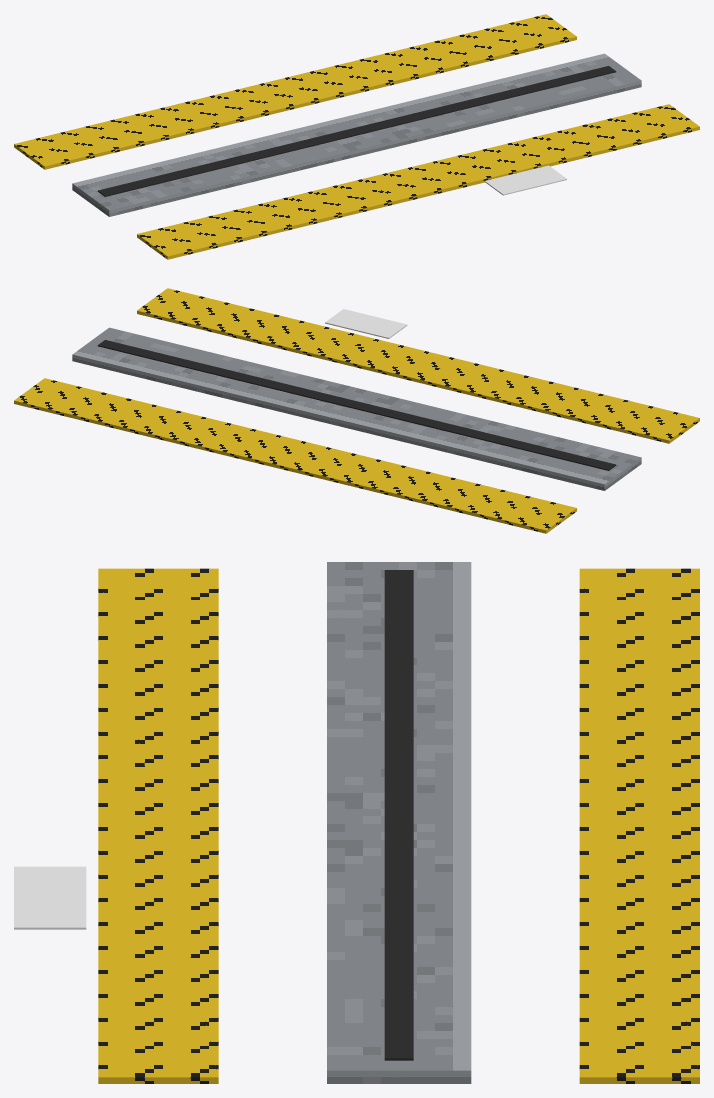
Rendered from tr_lab_security_corridor_a.glb.
3 views of the same model, one above another, from view 1: azimuth 30°, elevation 25°; view 2: azimuth 150°, elevation 25°; view 3: azimuth 270°, elevation 25° (orthographic). The views are drawn at different scales.
Parts seen in each view (by area): view 1: block_hazard stripe (×2), block_door track, block_groove, block_label; view 2: block_hazard stripe (×2), block_door track, block_groove, block_label; view 3: block_hazard stripe (×2), block_door track, block_groove, block_label.
Part boxes in pixels (left/top/right/bottom): block_hazard stripe (×2): left=14, top=14, right=699, bottom=259; block_door track: left=72, top=53, right=641, bottom=216; block_groove: left=97, top=66, right=616, bottom=196; block_label: left=484, top=165, right=566, bottom=195; block_hazard stripe (×2): left=14, top=288, right=699, bottom=533; block_door track: left=72, top=327, right=641, bottom=490; block_groove: left=97, top=340, right=616, bottom=470; block_label: left=325, top=309, right=407, bottom=338; block_hazard stripe (×2): left=98, top=568, right=699, bottom=1083; block_door track: left=327, top=562, right=471, bottom=1083; block_groove: left=384, top=570, right=413, bottom=1060; block_label: left=14, top=866, right=86, bottom=929.
Bounding box in the file's own units: 1 × 0.014 × 0.57.
Materials: 2 (2 with a texture image).
